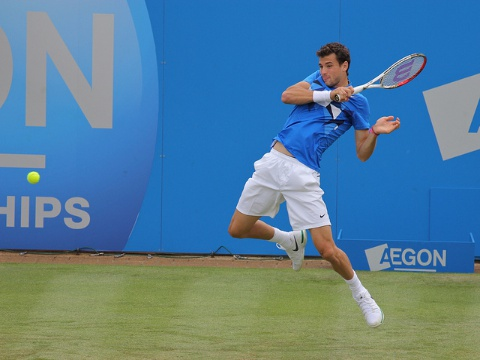hand: (374, 115, 400, 135)
